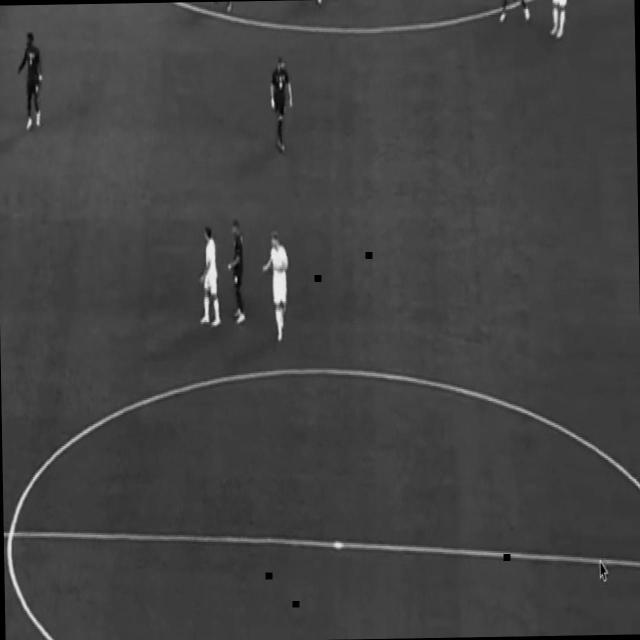player-white: (260, 232, 292, 344), (16, 34, 44, 134), (197, 226, 221, 332), (269, 58, 295, 152), (226, 221, 248, 327), (546, 0, 569, 40), (497, 0, 527, 25), (209, 2, 232, 16)
